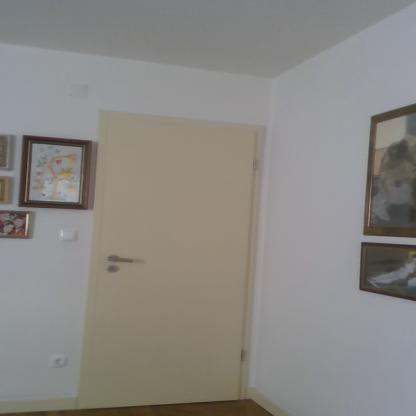door: (102, 117, 248, 402)
hinged: (240, 348, 249, 366), (252, 158, 256, 173)
lever: (107, 256, 137, 266)
